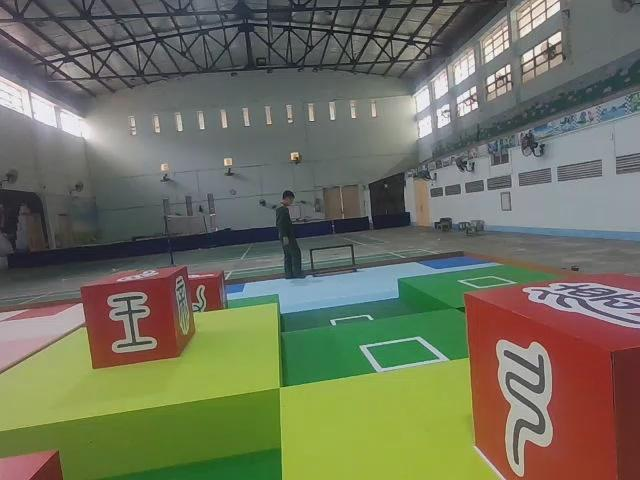R2 Fake: (465, 271, 640, 480), (83, 264, 194, 369)
R2 Real: (184, 266, 229, 317)
